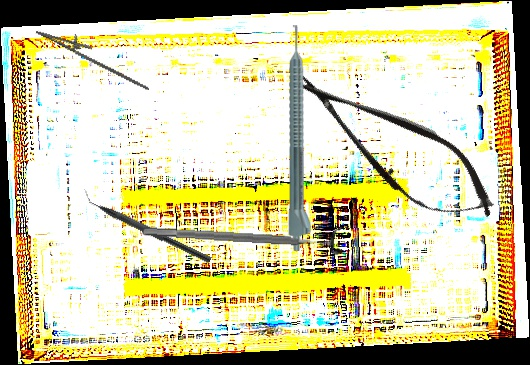Chopper: (78, 187, 216, 264)
Fixation Ring: (141, 215, 345, 257)
Handpiece: (288, 25, 314, 251)
Micro Scissor: (276, 49, 512, 245)
Needle Holder: (30, 21, 158, 91)
